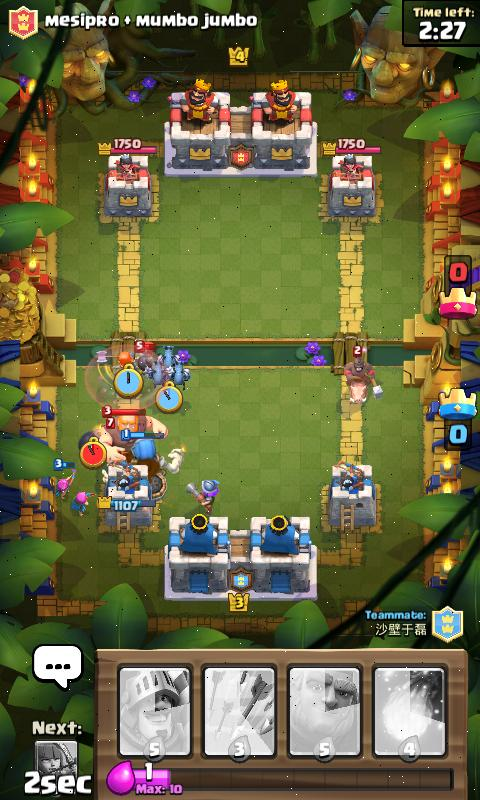EBomber: (136, 342, 153, 369)
EGiant: (102, 406, 168, 464)
EHogRider: (345, 347, 375, 401)
EKingTower: (248, 81, 314, 173), (166, 79, 229, 172)
EnemyPrincessTower: (100, 147, 156, 220), (328, 139, 380, 216)
OArcher: (70, 491, 95, 516), (56, 471, 74, 498)
OGiantSkeleton: (132, 440, 166, 499)
OMusk: (186, 480, 219, 513)
OValk: (113, 350, 134, 370)
OwnKingTower: (168, 514, 228, 597), (250, 515, 310, 598)
OwnPrincessTower: (105, 467, 153, 529), (330, 464, 375, 530)
ominion: (170, 357, 190, 389), (147, 356, 165, 386), (162, 346, 173, 365)
